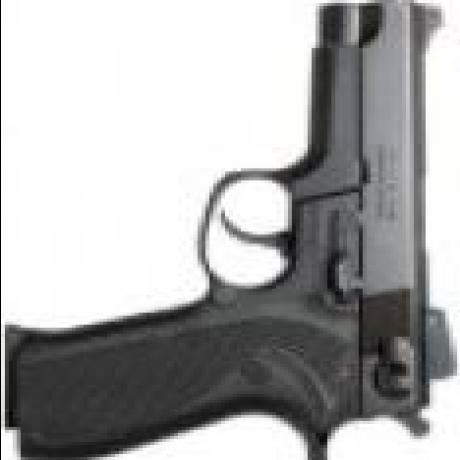weapon: (0, 1, 457, 460)
